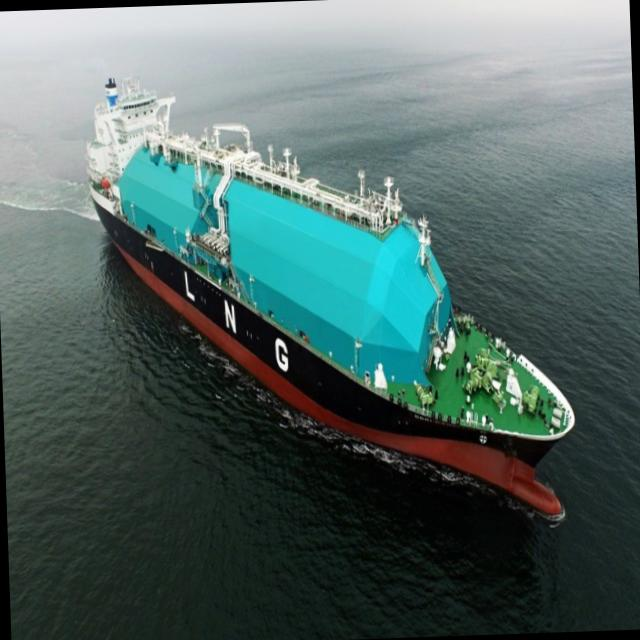boat: (76, 41, 592, 578)
